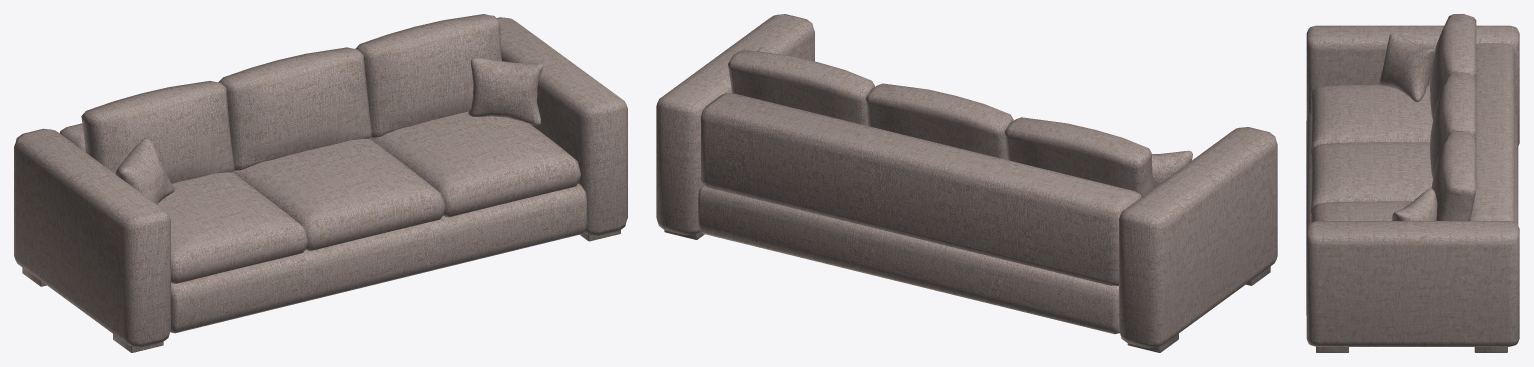
The model's file is SofaCream.gltf.
The picture shows the model from 3 angles, left to right: view 1: azimuth 30°, elevation 25°; view 2: azimuth 150°, elevation 25°; view 3: azimuth 270°, elevation 25°; orthographic projection. The views are drawn at different scales.
Parts seen in each view (by area): view 1: g; view 2: g; view 3: g.
Boxes of the visible parts, x1,y1,x2,y2 form: g: (14, 14, 627, 352); g: (656, 14, 1277, 352); g: (1306, 14, 1519, 352).
Size of the model in its own units: 2 by 0.6593 by 0.8387.
1 material, 1 textured.
